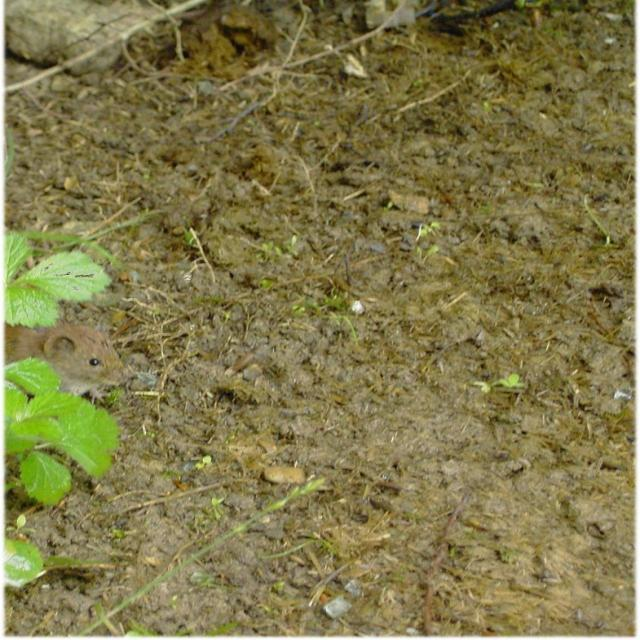rat: (9, 306, 137, 405)
